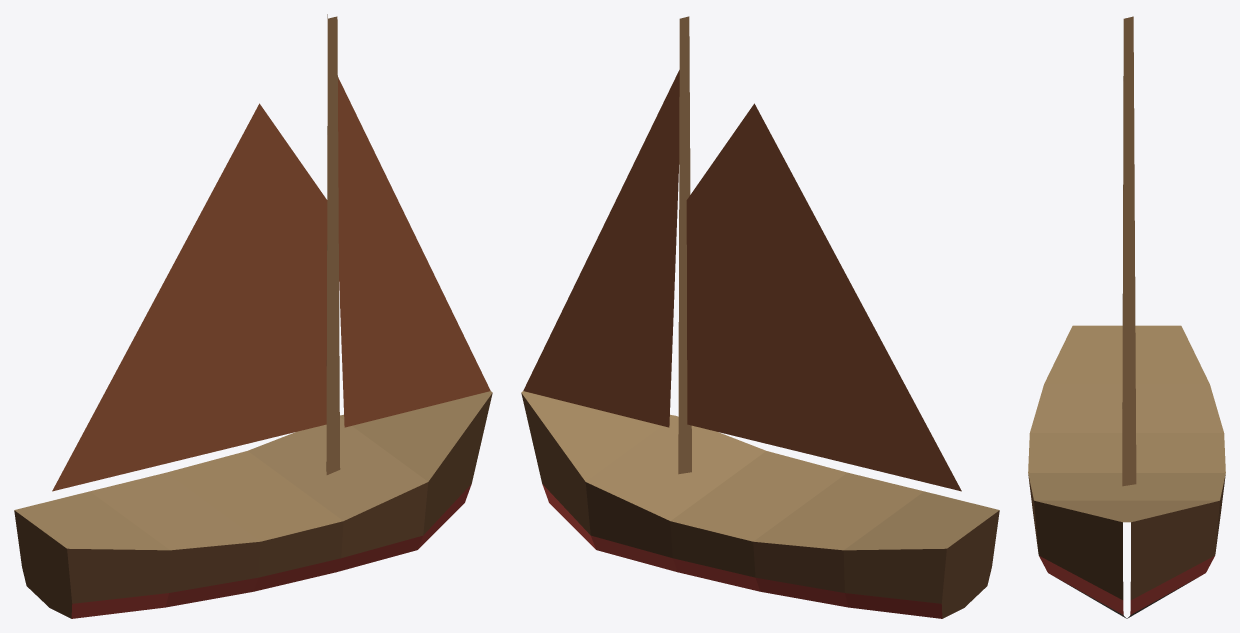
File: hull_eur_botter_boat_lod.glb
3 renders of one model, left to right at view 1: azimuth 30°, elevation 25°; view 2: azimuth 150°, elevation 25°; view 3: azimuth 270°, elevation 25°, orthographic. The views are drawn at different scales.
Visible parts, largest first — view 1: lod; view 2: lod; view 3: lod.
Boxes of the visible parts, x1,y1,x2,y2 form: lod: [14, 14, 492, 618]; lod: [521, 16, 999, 618]; lod: [1028, 16, 1225, 618].
Bounding box in the file's own units: 7.5 × 8.57 × 2.77.
